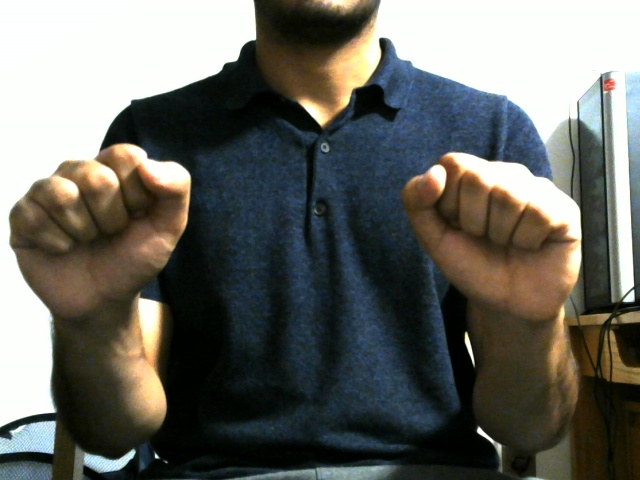can: (5, 132, 617, 449)
